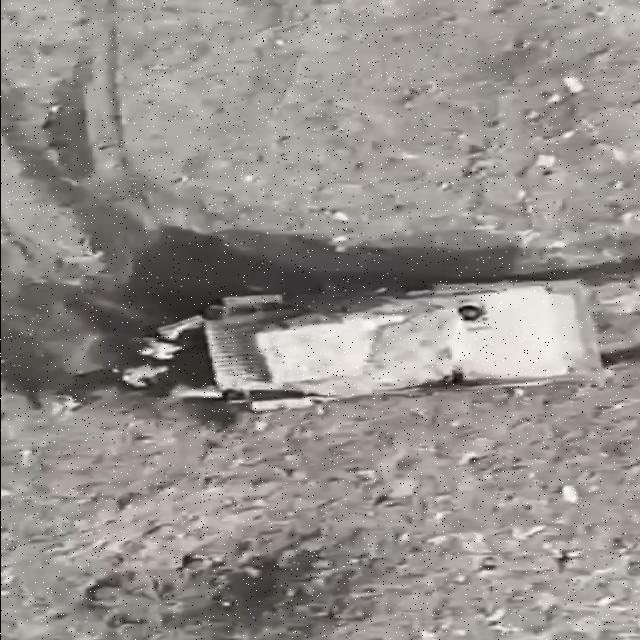APC-IFV: (180, 266, 614, 422)
